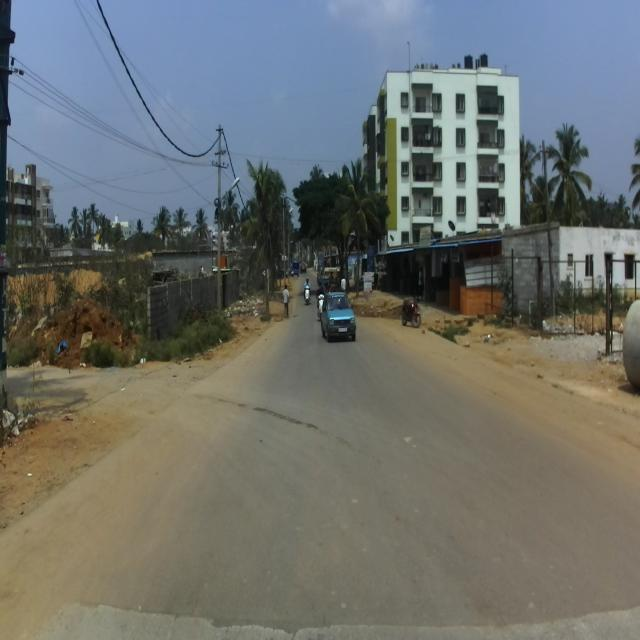car ahead at: (319, 283, 358, 351)
electric pole ahead at: (210, 115, 238, 319)
